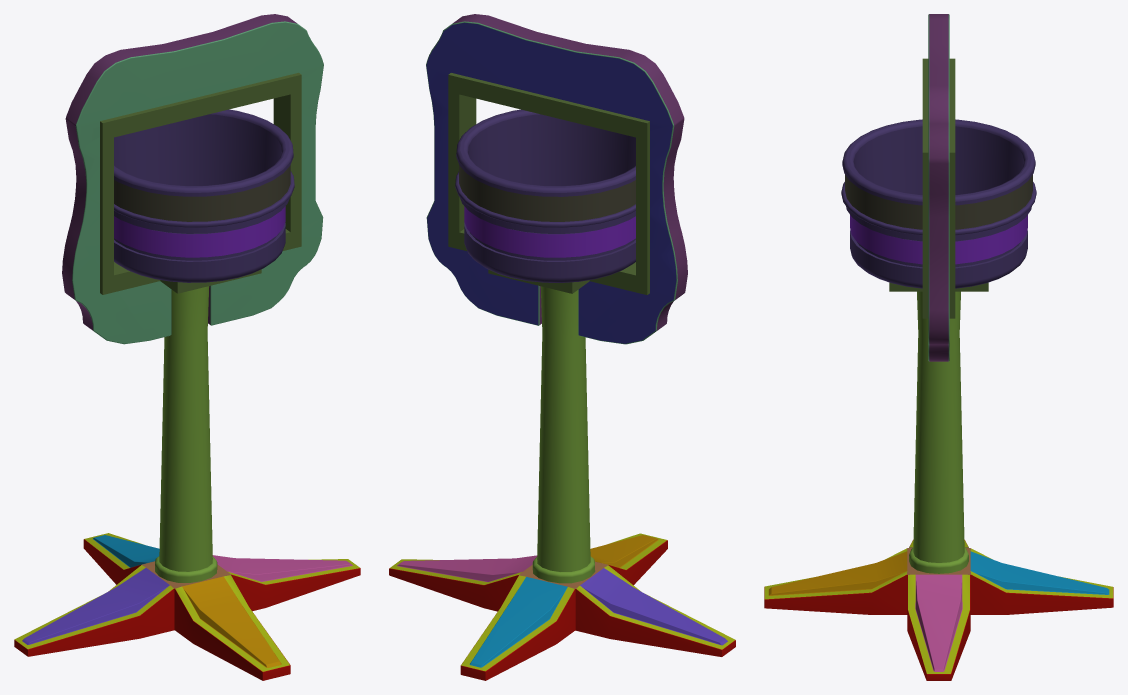
Rendered from Stand_Style_01.fbx.
The picture shows the model from 3 angles, left to right: view 1: azimuth 30°, elevation 25°; view 2: azimuth 150°, elevation 25°; view 3: azimuth 270°, elevation 25°; orthographic projection. The views are drawn at different scales.
Parts seen in each view (by area): view 1: SetA_Stand_Style_01; view 2: SetA_Stand_Style_01; view 3: SetA_Stand_Style_01.
Boxes of the visible parts, x1=… form: SetA_Stand_Style_01: x1=14, y1=14, x2=360, y2=680; SetA_Stand_Style_01: x1=389, y1=14, x2=735, y2=680; SetA_Stand_Style_01: x1=764, y1=14, x2=1113, y2=680.
Bounding box in the file's own units: 0.727 × 1.19 × 0.6822.
